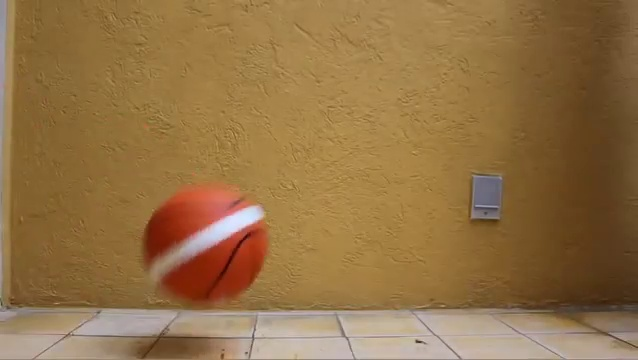ball: (143, 182, 271, 306)
